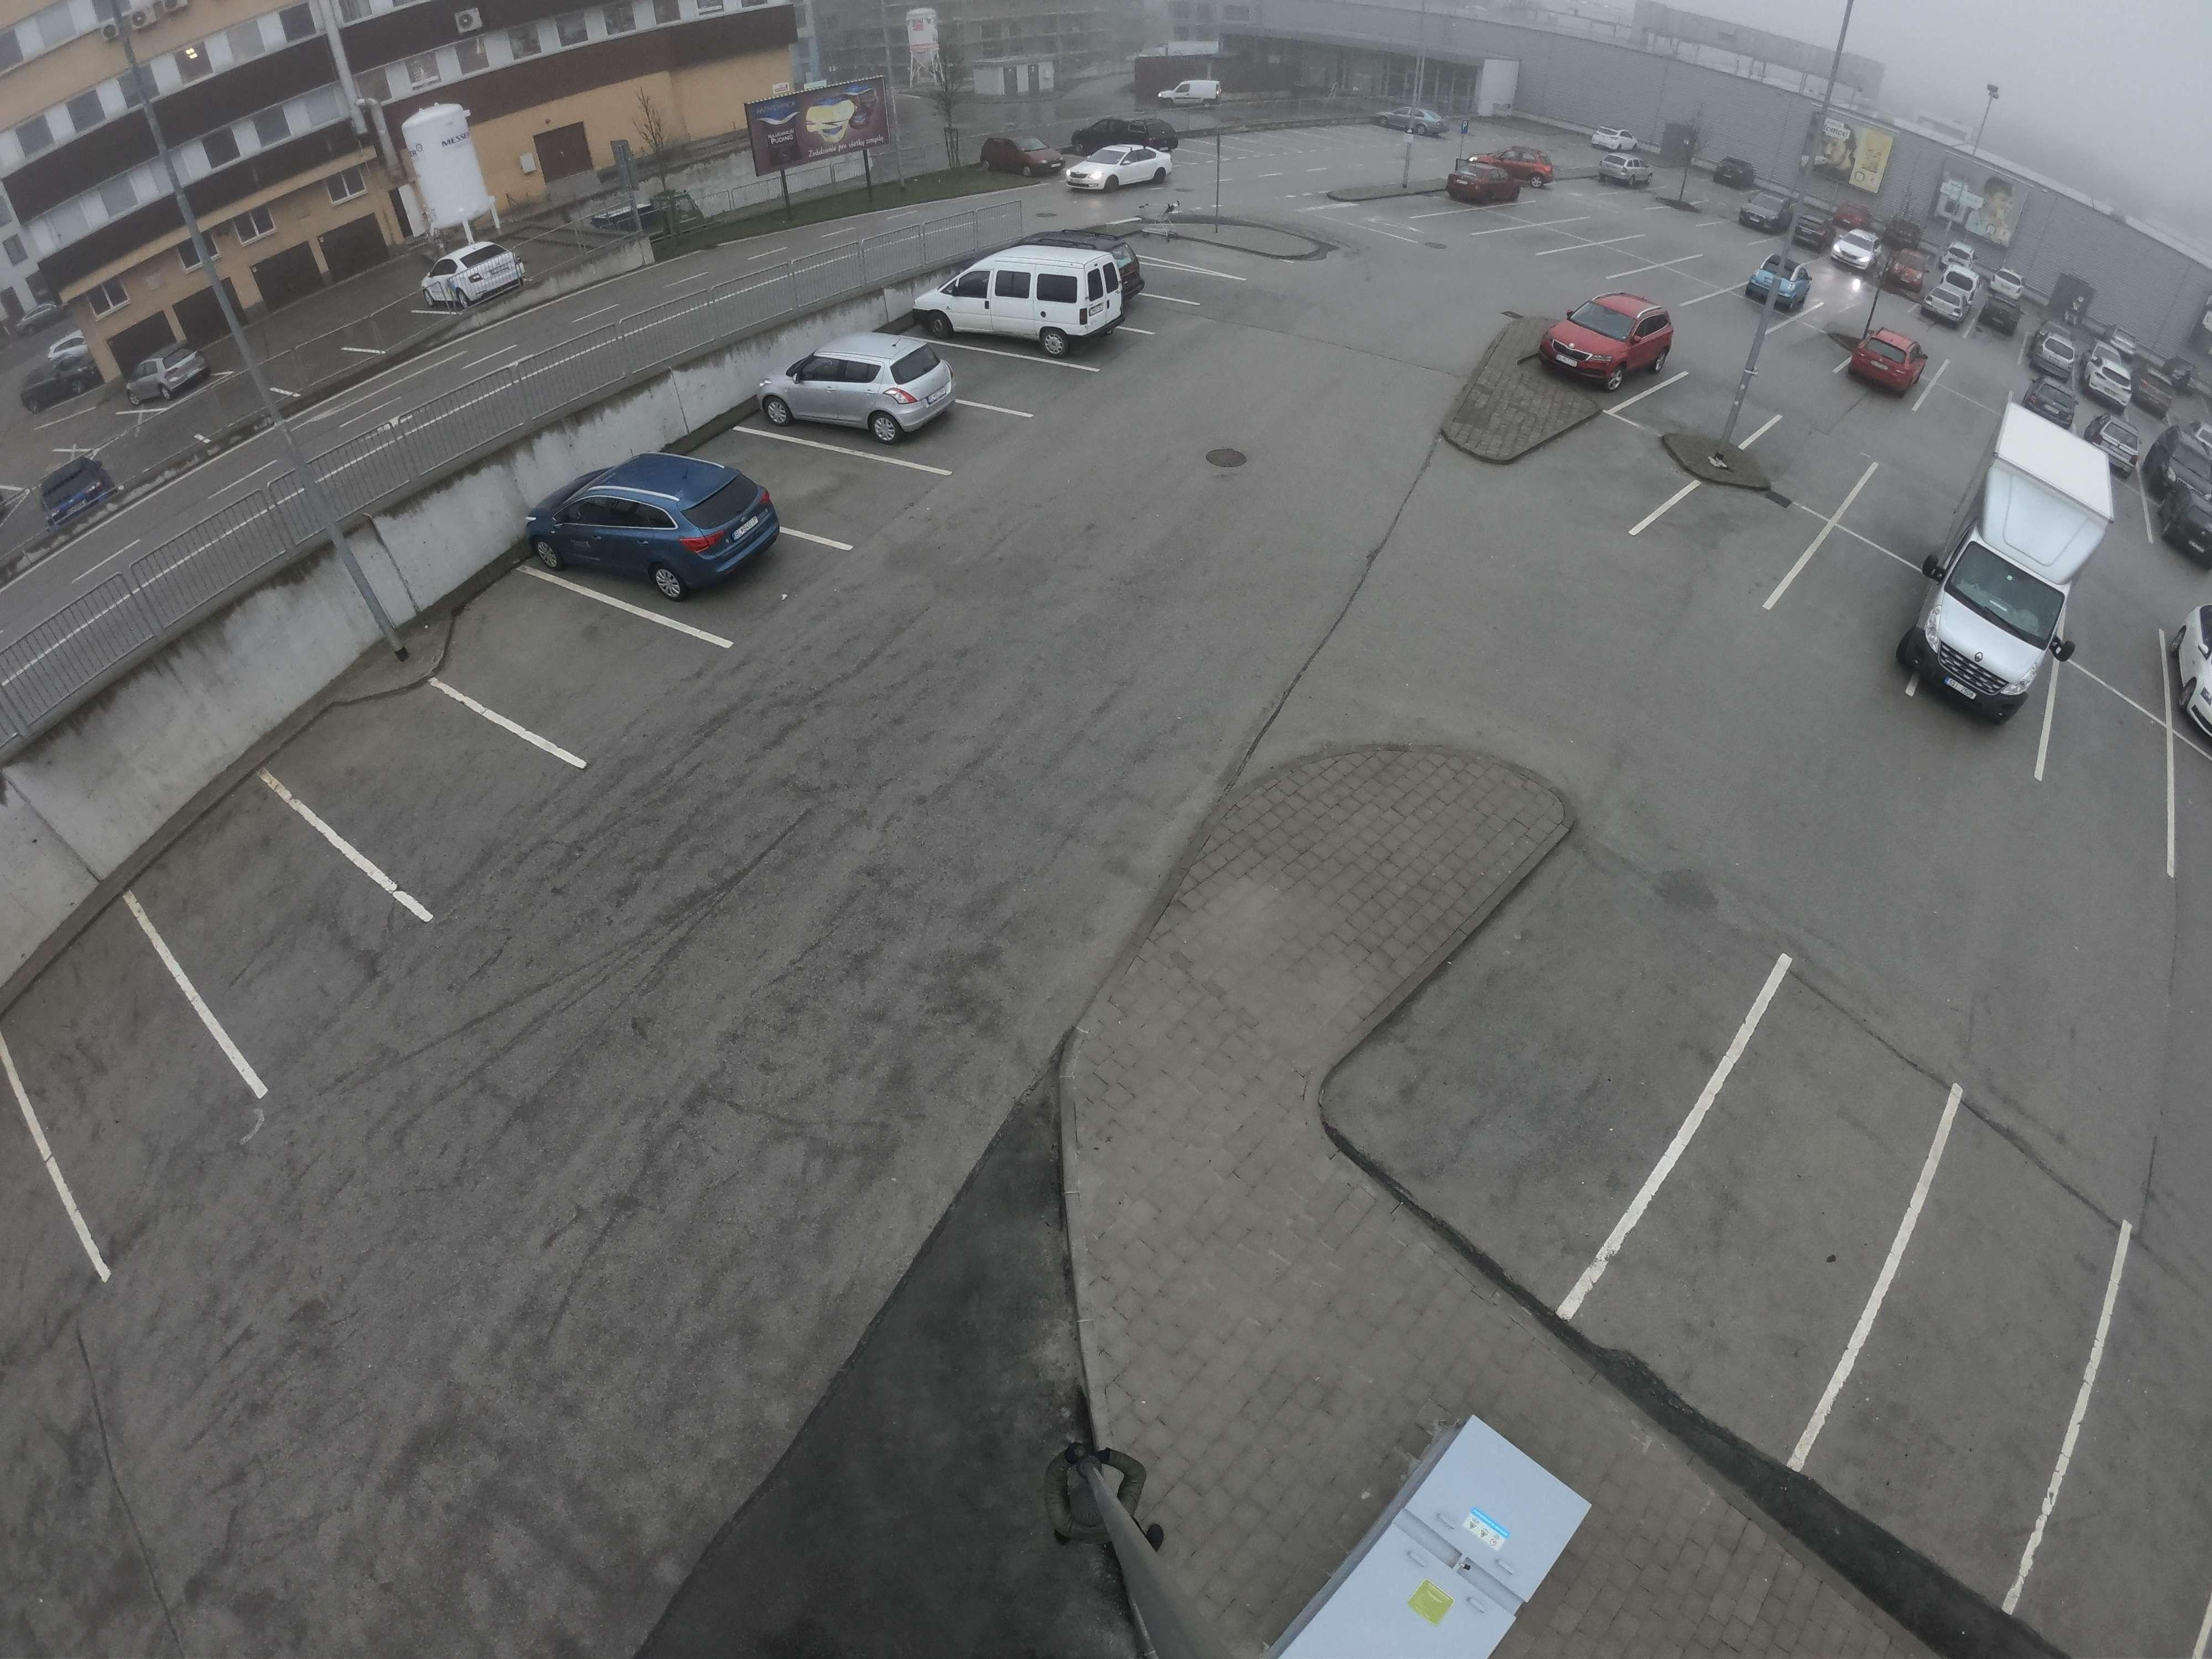empty: (1221, 1431, 1580, 1659), (526, 448, 787, 605), (1893, 509, 2074, 714), (906, 244, 1137, 364), (761, 317, 967, 444), (1534, 298, 1686, 385), (19, 338, 120, 418), (2153, 441, 2212, 573), (430, 235, 540, 307), (2160, 601, 2212, 739), (1839, 322, 1933, 397), (1062, 139, 1172, 197), (1446, 155, 1536, 206), (2074, 352, 2148, 413), (1737, 256, 1811, 312), (1914, 286, 1970, 331), (1599, 150, 1655, 192), (1745, 200, 1794, 239)
occupied: (1881, 1229, 2090, 1450), (1683, 1114, 1892, 1300), (1467, 983, 1672, 1127), (197, 854, 348, 997), (2111, 1333, 2212, 1542), (341, 721, 502, 843), (56, 999, 193, 1138), (488, 606, 620, 714), (2080, 556, 2160, 683), (928, 335, 1035, 418), (2050, 695, 2148, 784), (1684, 505, 1801, 575), (1808, 565, 1904, 627), (1914, 376, 1991, 453), (744, 453, 838, 511), (1559, 457, 1653, 512), (1667, 380, 1752, 434), (1872, 479, 1956, 533), (1629, 260, 1709, 310), (1777, 448, 1855, 497), (1496, 213, 1566, 258), (1439, 193, 1505, 237), (1568, 244, 1629, 279)
